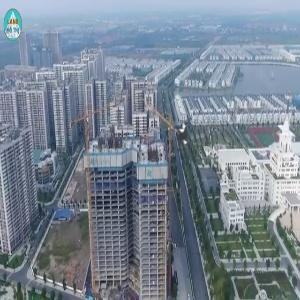drone: (152, 106, 215, 169)
